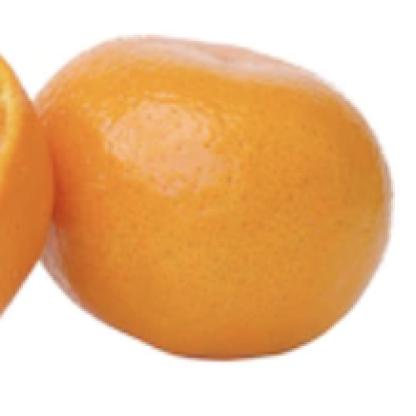fresh: (38, 36, 386, 358)
